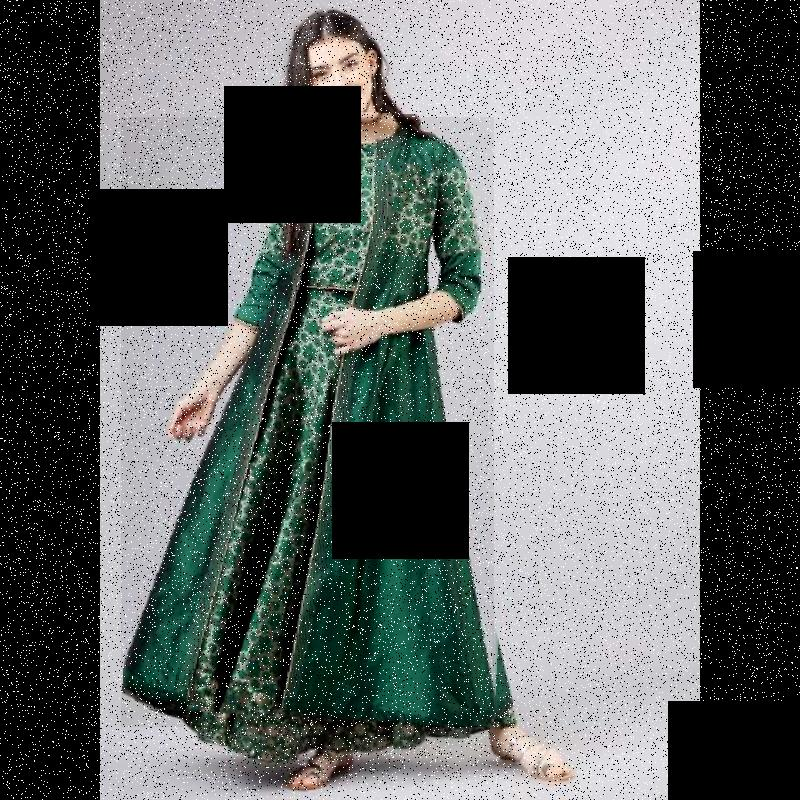Maxi: (121, 117, 494, 727)
